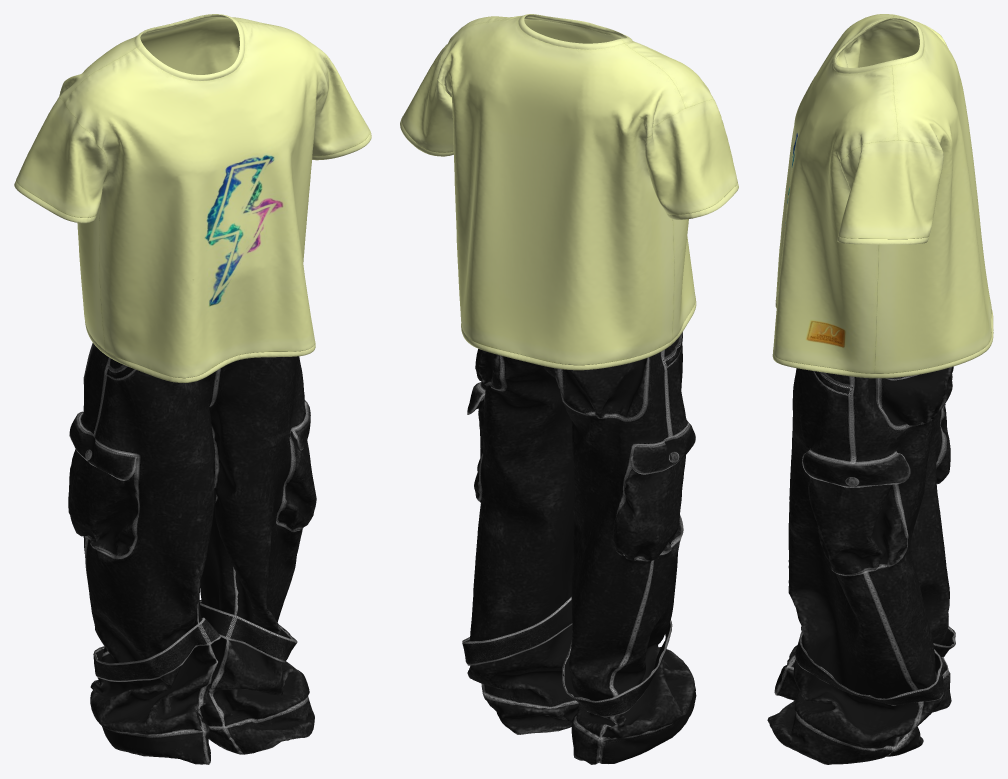
File: maleDress1.glb
3 views of the same model, side by side, from view 1: azimuth 30°, elevation 25°; view 2: azimuth 150°, elevation 25°; view 3: azimuth 270°, elevation 25° (orthographic). The views are drawn at different scales.
Visible parts, largest first — view 1: Object_0 (×2), Object_2, Object_1, Object_3; view 2: Object_0 (×2), Object_2, Object_3, Object_1; view 3: Object_0 (×2), Object_2, Object_1, Object_3.
Part boxes in pixels (box(x1,y1,x2,y2)): Object_0 (×2): box(14, 129, 371, 764); Object_2: box(16, 17, 327, 378); Object_1: box(64, 14, 371, 358); Object_3: box(61, 17, 263, 334); Object_0 (×2): box(400, 116, 738, 764); Object_2: box(437, 16, 737, 364); Object_3: box(443, 23, 673, 358); Object_1: box(401, 14, 713, 365); Object_0 (×2): box(767, 236, 993, 764); Object_2: box(773, 14, 991, 373); Object_1: box(774, 17, 978, 373); Object_3: box(875, 20, 990, 371).
Bounding box in the file's own units: 0.777 × 1.6 × 0.4771.
Materials: 5 (5 with a texture image).
